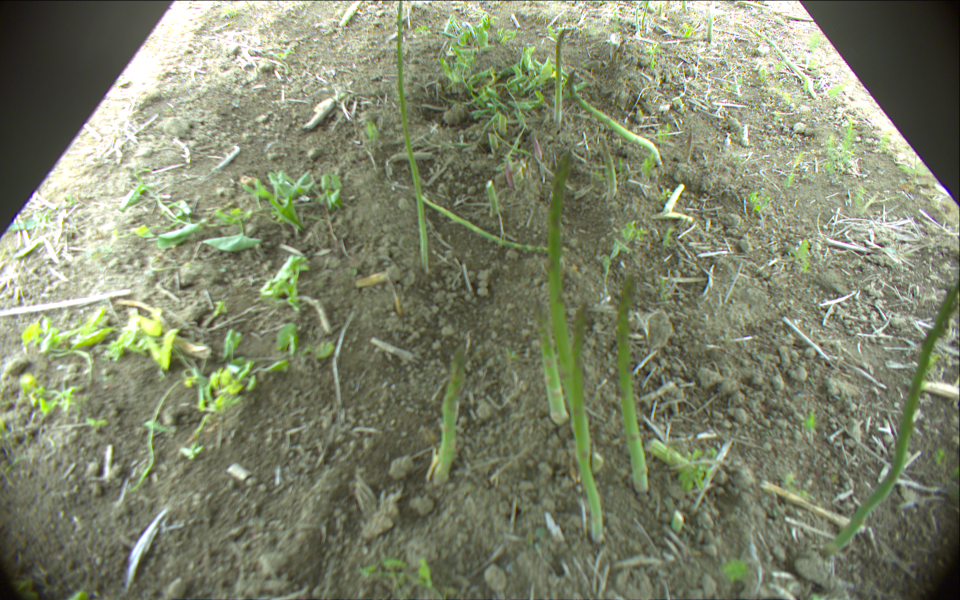aspa: (817, 275, 960, 559), (533, 142, 572, 400), (565, 71, 663, 168), (395, 1, 429, 273), (421, 193, 570, 253), (568, 302, 602, 545), (617, 277, 649, 492), (742, 24, 817, 98), (433, 343, 469, 484), (533, 295, 569, 424), (553, 27, 572, 124), (646, 438, 691, 472), (600, 137, 617, 203), (663, 181, 687, 214), (339, 1, 362, 27), (486, 180, 501, 217), (504, 158, 518, 190), (670, 509, 684, 534), (532, 137, 545, 162), (705, 11, 715, 42), (591, 451, 602, 479), (641, 1, 652, 26), (658, 1, 663, 18), (683, 1, 686, 10)
